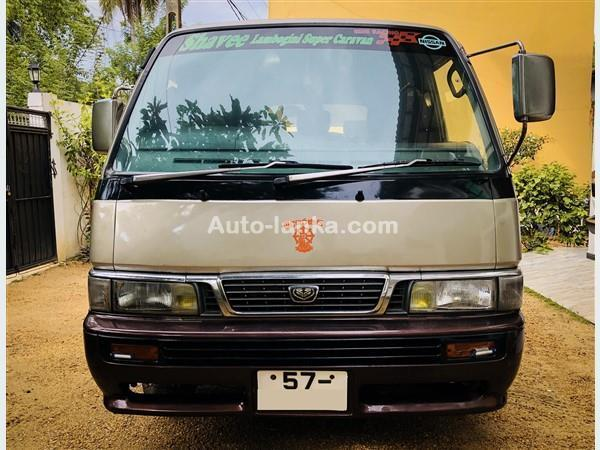truck: (81, 24, 520, 432)
